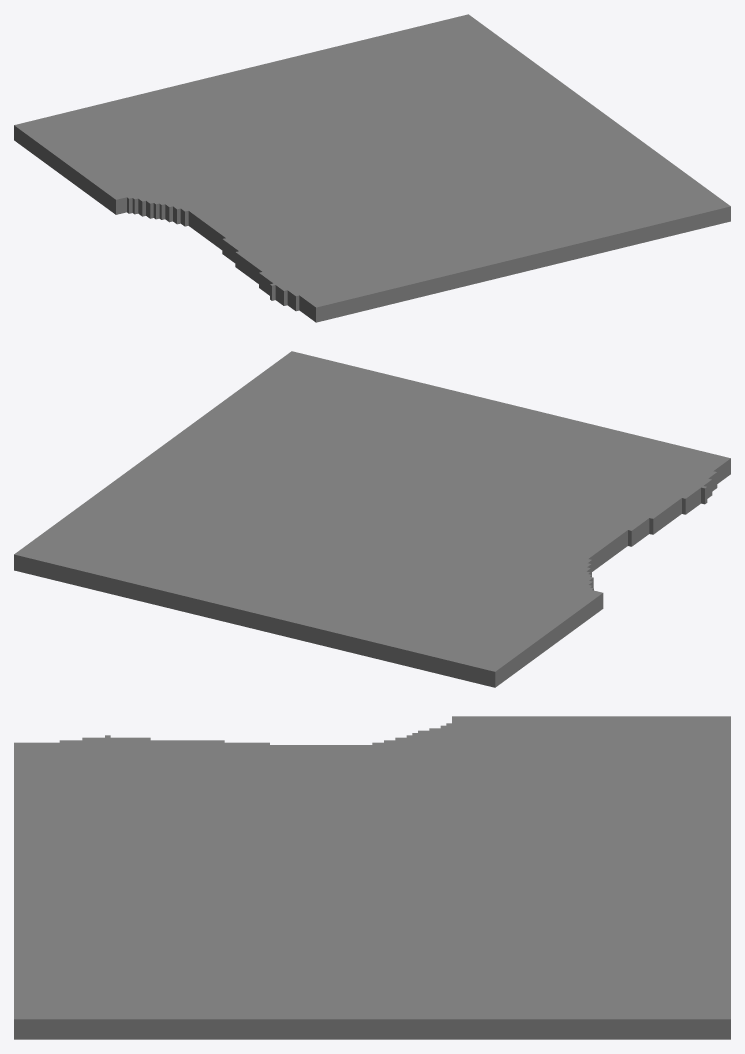
File: Main Island-10.obj
3 renders of one model, top to bottom at view 1: azimuth 30°, elevation 25°; view 2: azimuth 150°, elevation 25°; view 3: azimuth 270°, elevation 25°, orthographic. The views are drawn at different scales.
Visible parts, largest first — view 1: Main Island-10; view 2: Main Island-10; view 3: Main Island-10.
Part boxes in pixels (x1=…): Main Island-10: x1=14, y1=14, x2=730, y2=322; Main Island-10: x1=14, y1=351, x2=730, y2=687; Main Island-10: x1=14, y1=716, x2=730, y2=1039.
Bounding box in the file's own units: 126 × 4 × 126.
1 material, 1 textured.
